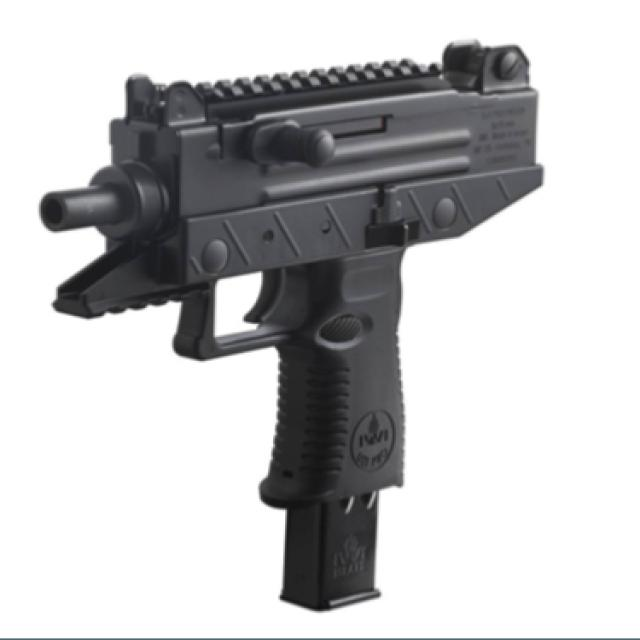SMG: (38, 42, 546, 613)
